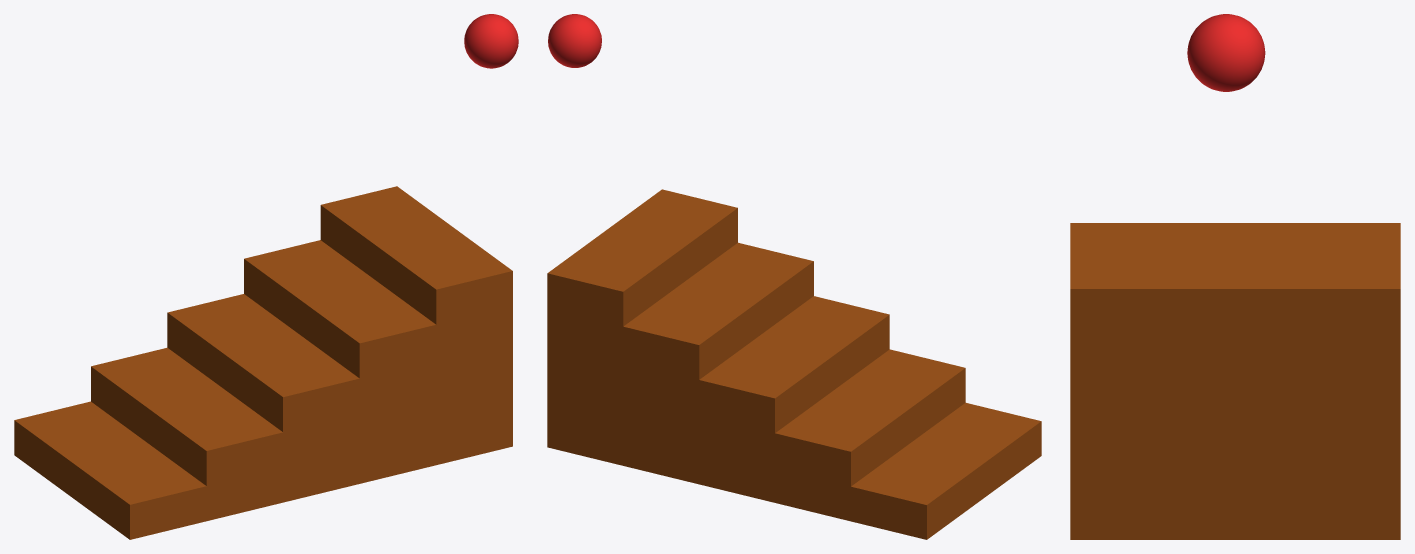
File: StairsAnimationV04.gltf
3 views of the same model, side by side, from view 1: azimuth 30°, elevation 25°; view 2: azimuth 150°, elevation 25°; view 3: azimuth 270°, elevation 25° (orthographic). The views are drawn at different scales.
Parts seen in each view (by area): view 1: Steps, Ball; view 2: Steps, Ball; view 3: Steps, Ball.
Boxes of the visible parts, x1,y1,x2,y2 form: Steps: (14, 186, 512, 539); Ball: (464, 14, 518, 68); Steps: (547, 189, 1041, 539); Ball: (548, 14, 601, 67); Steps: (1070, 223, 1400, 539); Ball: (1187, 14, 1265, 91).
Size of the model in its own units: 13.94 by 11.57 by 6.35.
